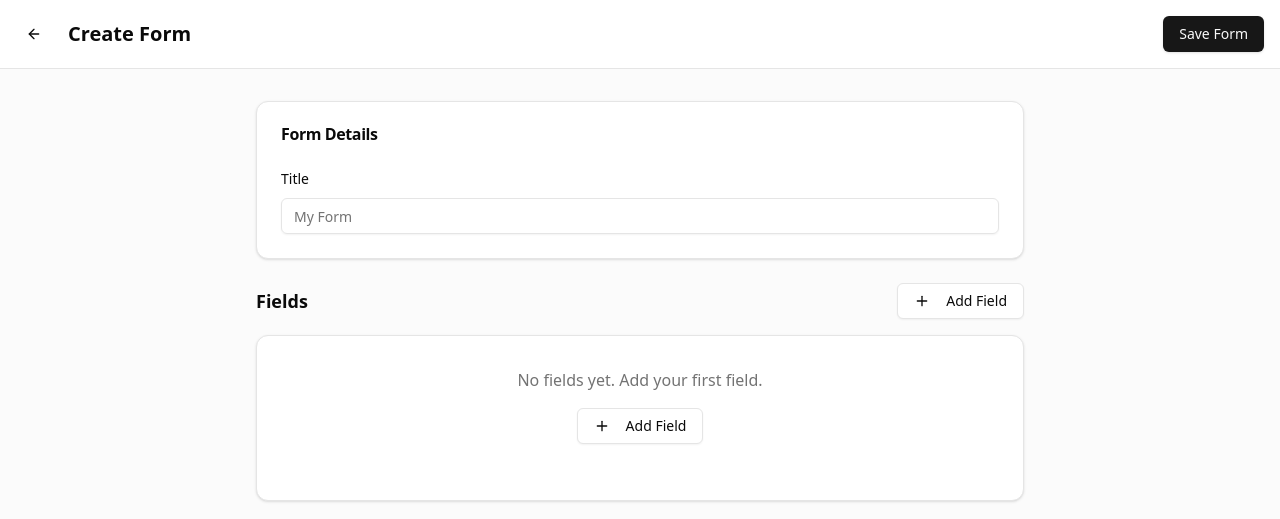
Scenario: BuilderPage › auto-generates field name from label
Click the 1st button "Add Field" at [961, 301], box [897,283,1024,319]
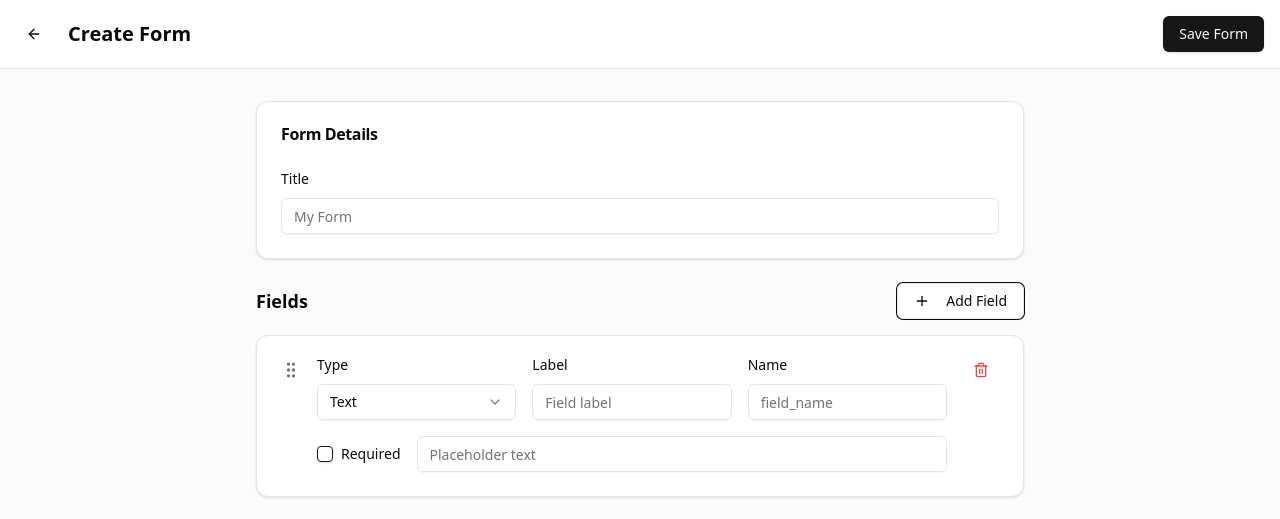
Type "Full Name" into the field with placeholder "Field label" at [632, 402], box [532,384,732,420]
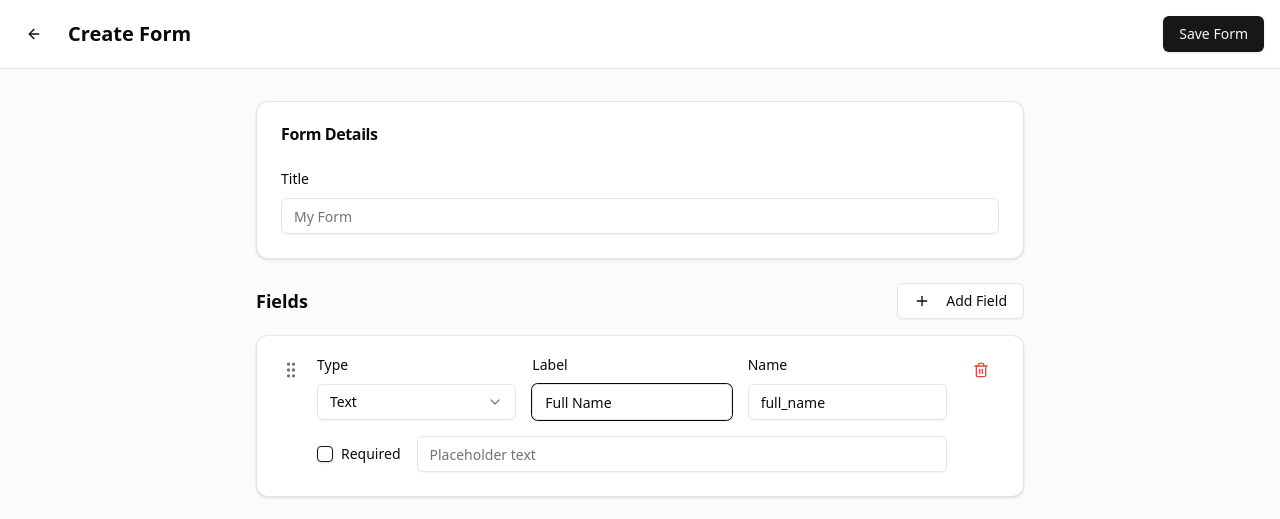
Expected: the field with placeholder "field_name" below "Name" holds "full_name", [748,384,947,420]
